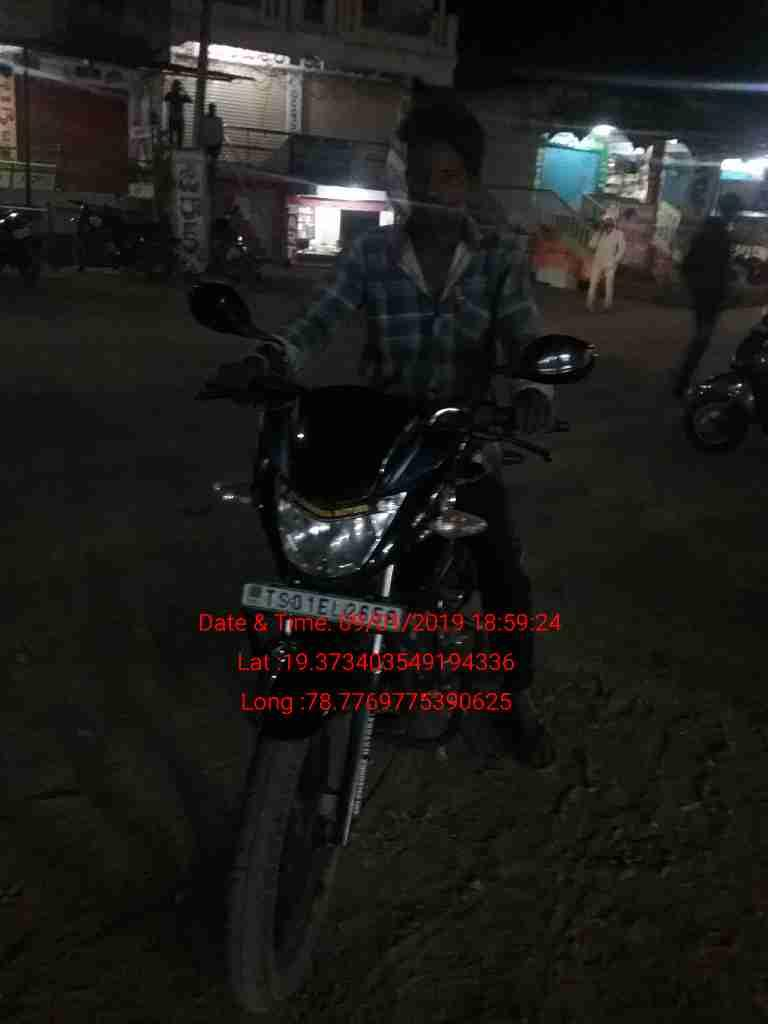plate: (238, 572, 402, 639)
